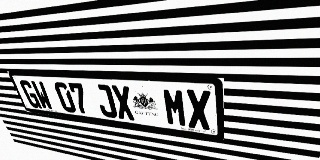0: (53, 82, 77, 113)
7: (67, 83, 92, 115)
G: (18, 80, 42, 109)
J: (93, 84, 118, 118)
M: (162, 88, 188, 127)
W: (30, 81, 54, 110)
X: (185, 89, 211, 130), (110, 85, 136, 121)
